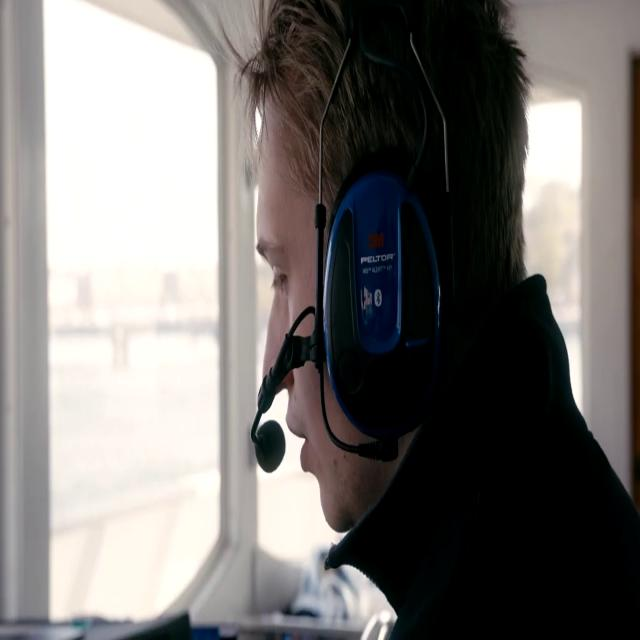earmuff: (296, 141, 485, 489)
